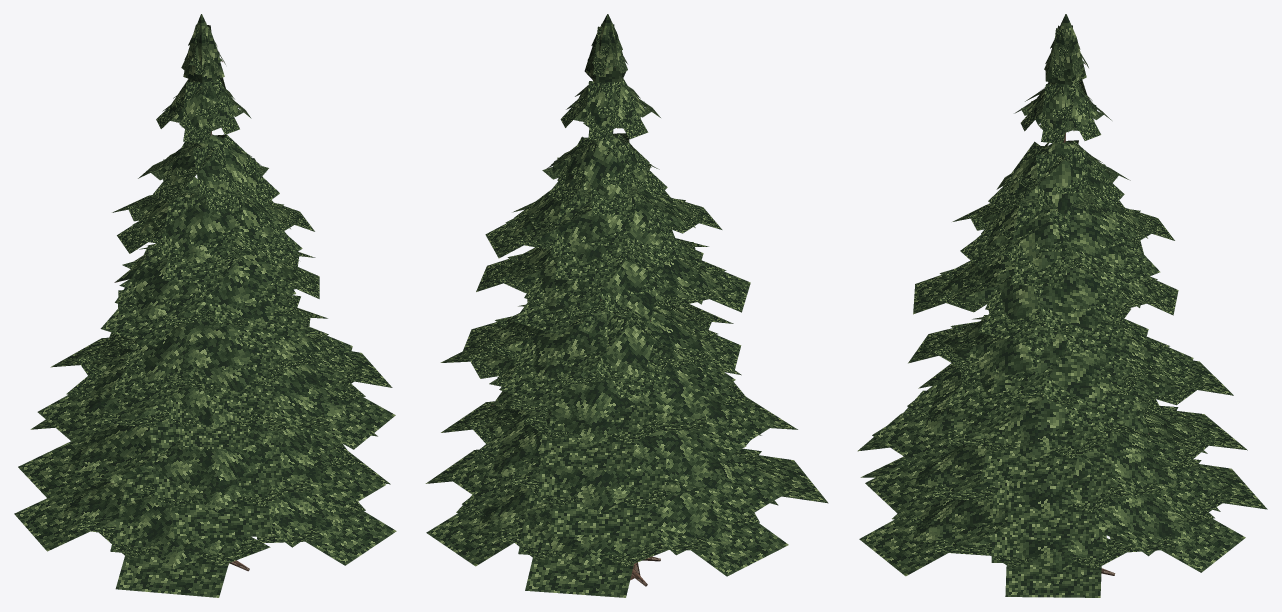
Rendered from TREE_Spruce_B.glb.
3 renders of one model, left to right at view 1: azimuth 30°, elevation 25°; view 2: azimuth 150°, elevation 25°; view 3: azimuth 270°, elevation 25°, orthographic. The views are drawn at different scales.
Parts seen in each view (by area): view 1: TREE_Spruce_B__Card, TREE_Spruce_B__Foliage; view 2: TREE_Spruce_B__Card, TREE_Spruce_B__Foliage; view 3: TREE_Spruce_B__Card, TREE_Spruce_B__Foliage.
Part boxes in pixels (box(x1,y1,x2,y2)): TREE_Spruce_B__Card: box(14, 24, 396, 597); TREE_Spruce_B__Foliage: box(61, 14, 348, 569); TREE_Spruce_B__Card: box(425, 24, 828, 597); TREE_Spruce_B__Foliage: box(478, 14, 776, 570); TREE_Spruce_B__Card: box(857, 25, 1267, 597); TREE_Spruce_B__Foliage: box(912, 14, 1202, 573).
Size of the model in its own units: 7.22 by 11.51 by 7.6.
Materials: 3 (3 with a texture image).
